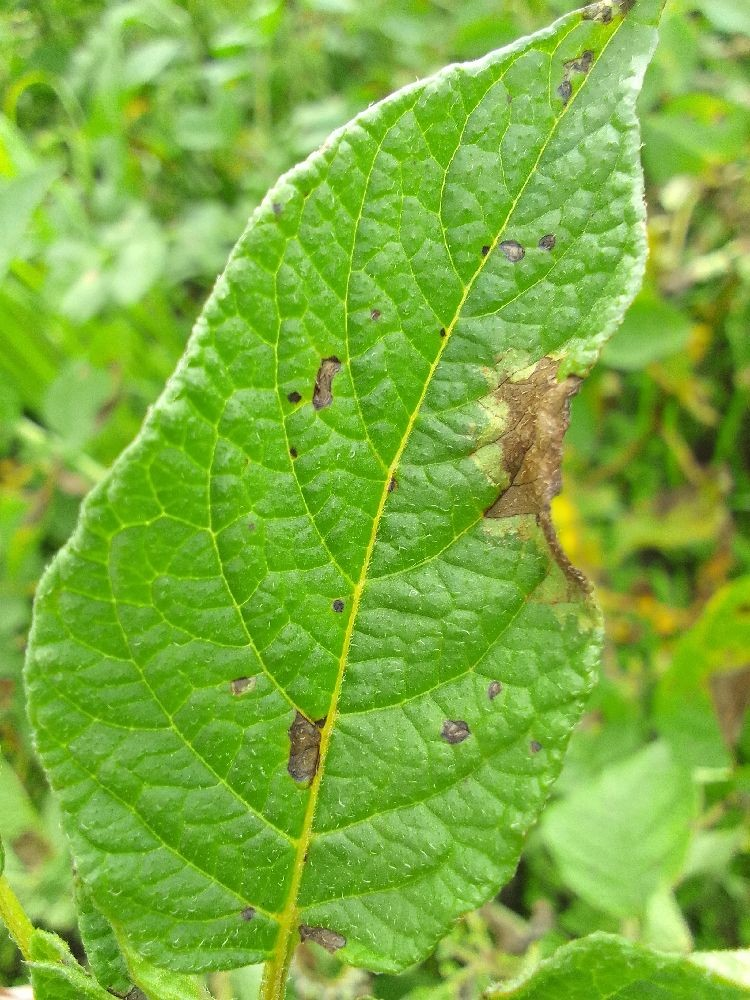late_blight: (468, 350, 749, 660), (701, 656, 750, 761), (280, 705, 333, 788)
